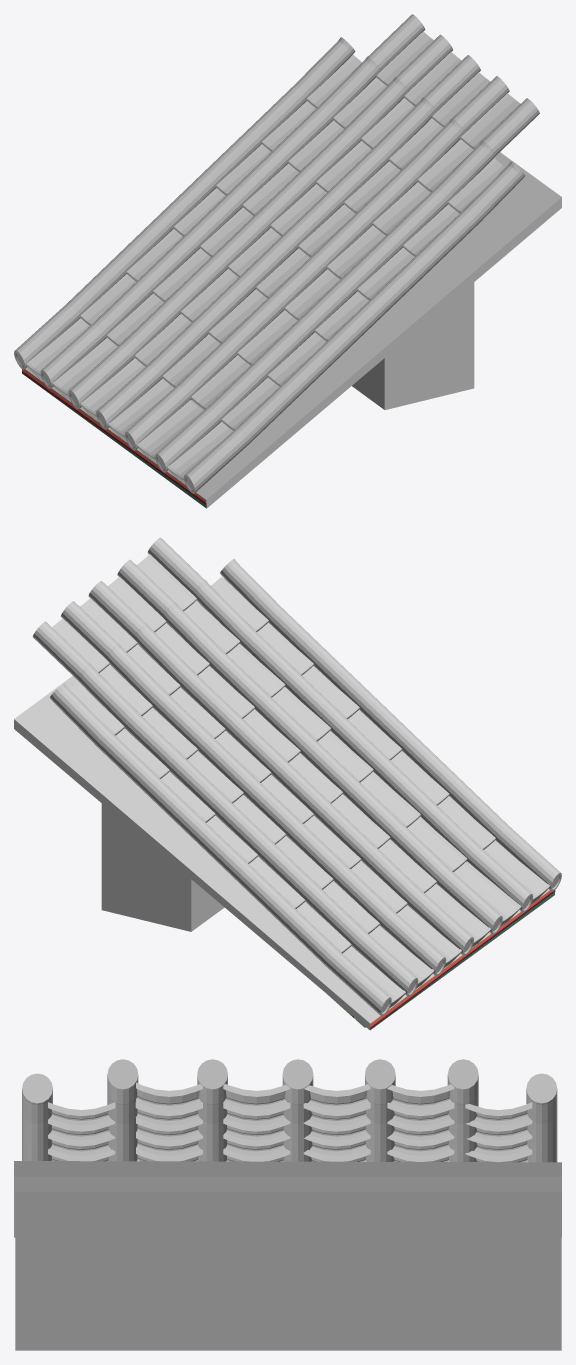
Rendered from SM_Roof_35.fbx.
3 views of the same model, one above another, from view 1: azimuth 30°, elevation 25°; view 2: azimuth 150°, elevation 25°; view 3: azimuth 270°, elevation 25° (orthographic). The views are drawn at different scales.
Parts seen in each view (by area): view 1: SM_Roof_35_LOD0; view 2: SM_Roof_35_LOD0; view 3: SM_Roof_35_LOD0.
Boxes of the visible parts, x1,y1,x2,y2 form: SM_Roof_35_LOD0: (14, 14, 561, 508); SM_Roof_35_LOD0: (14, 537, 561, 1030); SM_Roof_35_LOD0: (14, 1059, 561, 1350).
Size of the model in its own units: 321 by 270 by 250.
